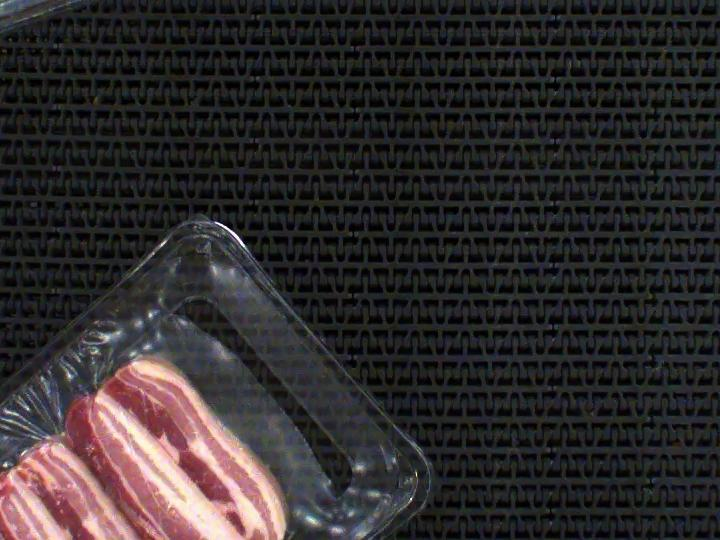unsealed: (0, 293, 397, 540)
